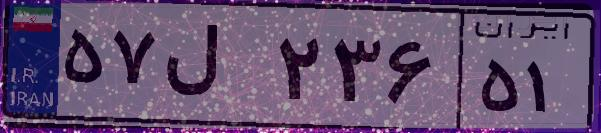1: (525, 38, 570, 115)
2: (270, 28, 330, 110)
3: (330, 28, 385, 110)
5: (57, 26, 110, 100), (475, 38, 525, 113)
6: (385, 28, 445, 110)
7: (110, 28, 158, 98)
ل: (158, 20, 270, 120)
